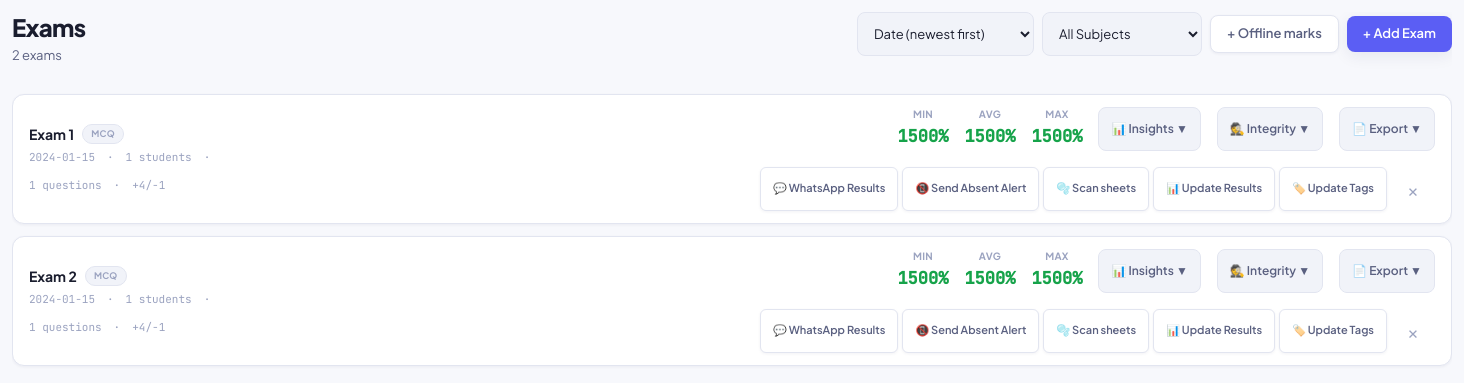
it: Exams page — filtered count display › count returns to total when filter reset to "All Subjects"
The width and height of the screenshot is (1464, 383).
Select "Maths" in the dropdown named "subject" at (1122,34), box [1042,12,1202,56]
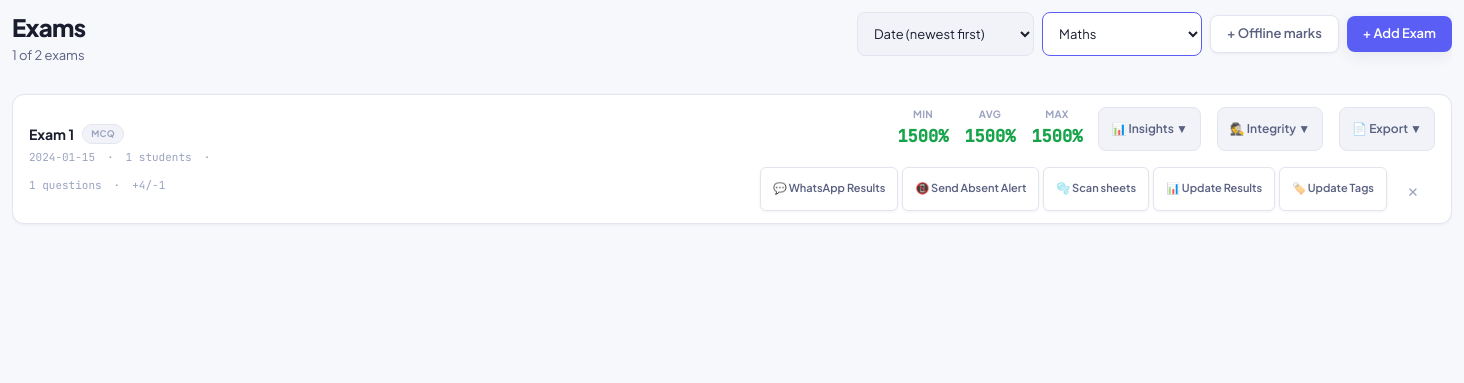
Now the text "1 of 2 exams" is shown, box [12,46,86,66]
Select "All Subjects" in the dropdown named "subject" at (1122,34), box [1042,12,1202,56]
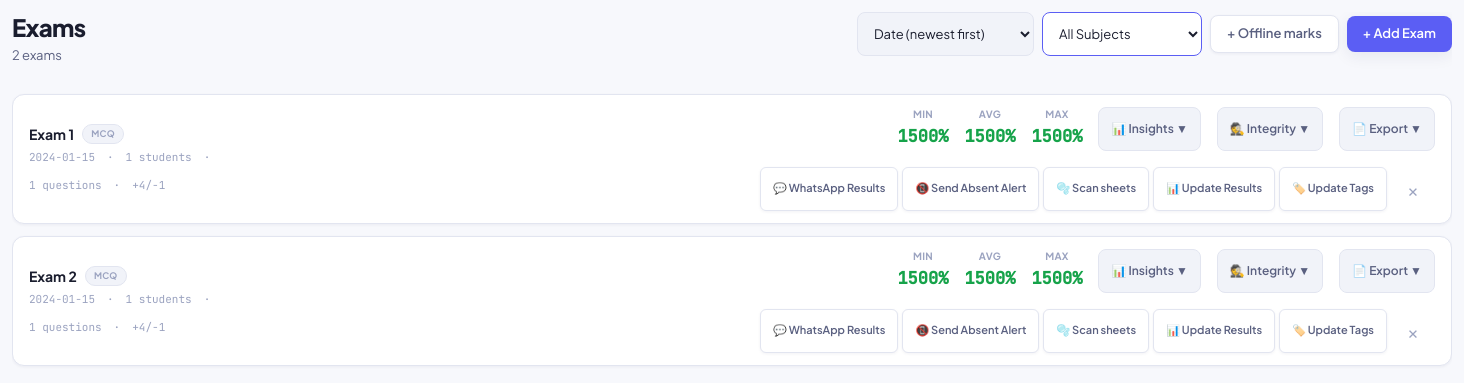
Expected: the text "2 exams" is shown, [12,47,62,63]
Now the text "of 2" is gone
